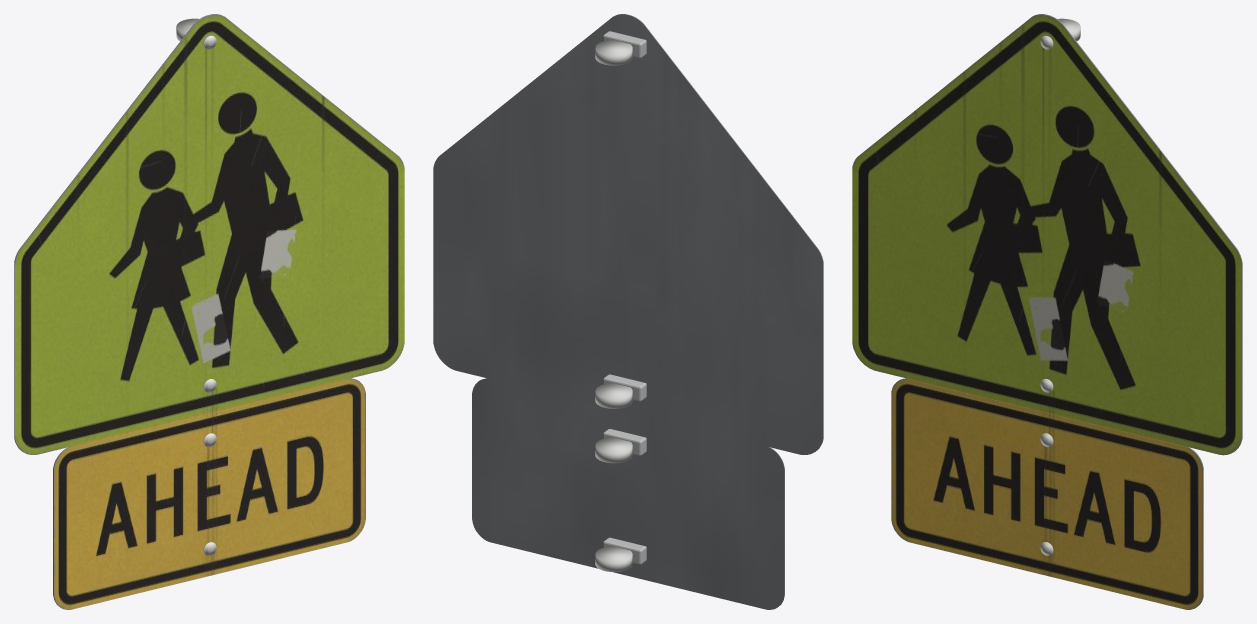
The model's file is schoolAhead-v1.glb.
3 views of the same model, side by side, from view 1: azimuth 30°, elevation 25°; view 2: azimuth 150°, elevation 25°; view 3: azimuth 330°, elevation 25° (orthographic).
Parts seen in each view (by area): view 1: schoolAhead-v1; view 2: schoolAhead-v1; view 3: schoolAhead-v1.
Boxes of the visible parts, x1,y1,x2,y2 form: schoolAhead-v1: (14,14,404,609); schoolAhead-v1: (433,14,823,609); schoolAhead-v1: (852,14,1242,609).
Size of the model in its own units: 0.762 by 1.05 by 0.0871.
1 material, 1 textured.
